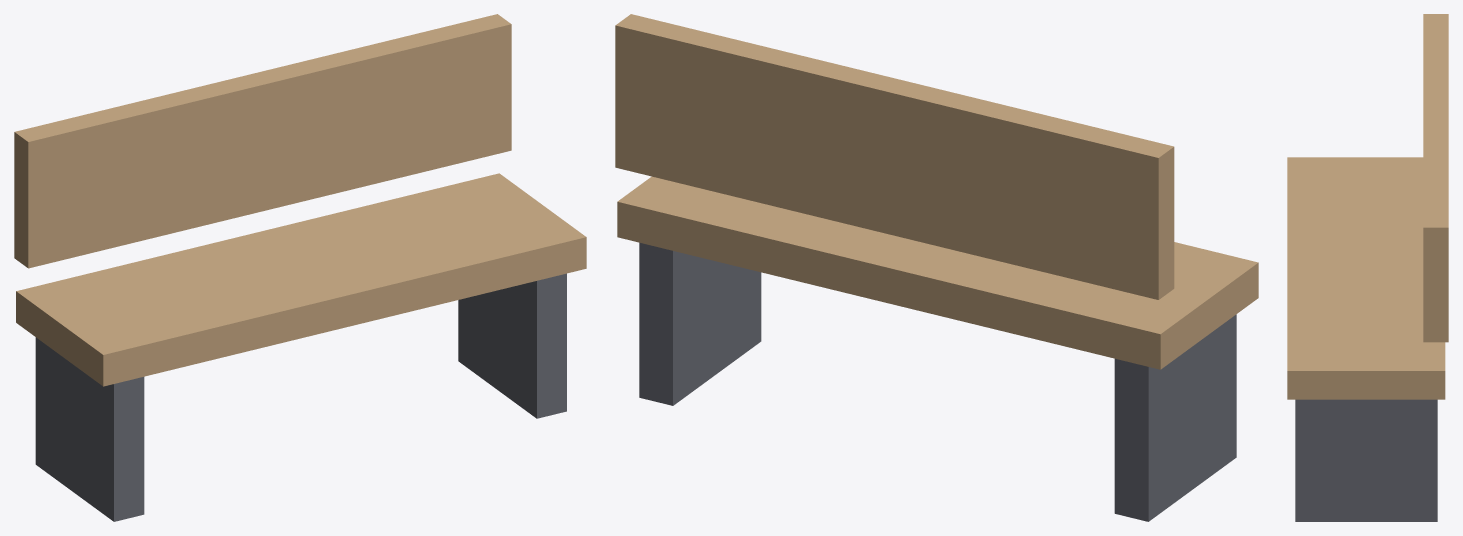
The model's file is bench.glb.
3 views of the same model, side by side, from view 1: azimuth 30°, elevation 25°; view 2: azimuth 150°, elevation 25°; view 3: azimuth 270°, elevation 25° (orthographic). The views are drawn at different scales.
Parts seen in each view (by area): view 1: bench; view 2: bench; view 3: bench.
Part boxes in pixels (x1=…): bench: x1=14, y1=14, x2=586, y2=521; bench: x1=615, y1=14, x2=1258, y2=521; bench: x1=1287, y1=14, x2=1448, y2=521.
Bounding box in the file's own units: 1.6 × 1.05 × 0.51.
